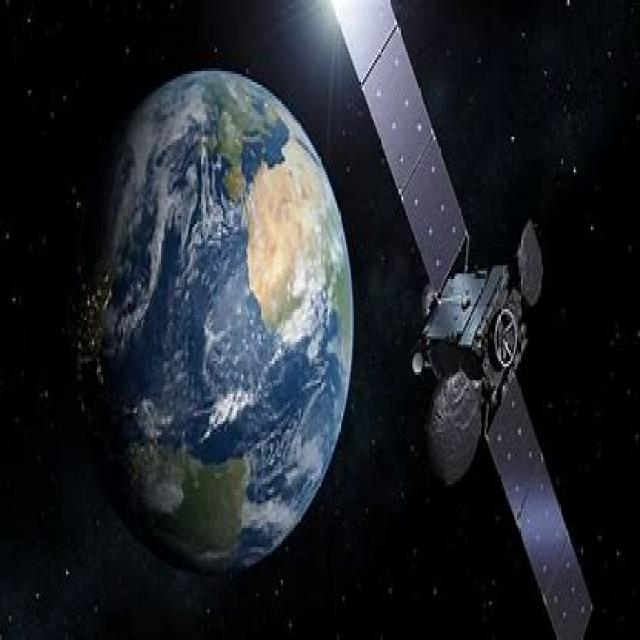medium_debris: (327, 3, 600, 640)
